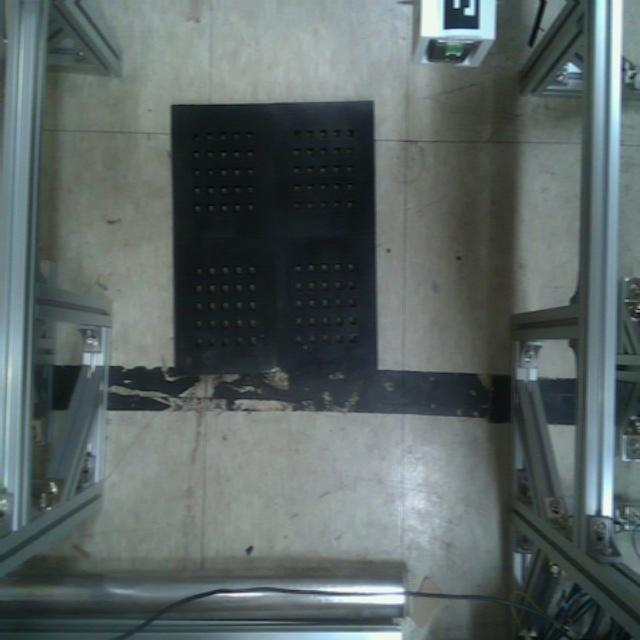pallet: (167, 97, 381, 377)
